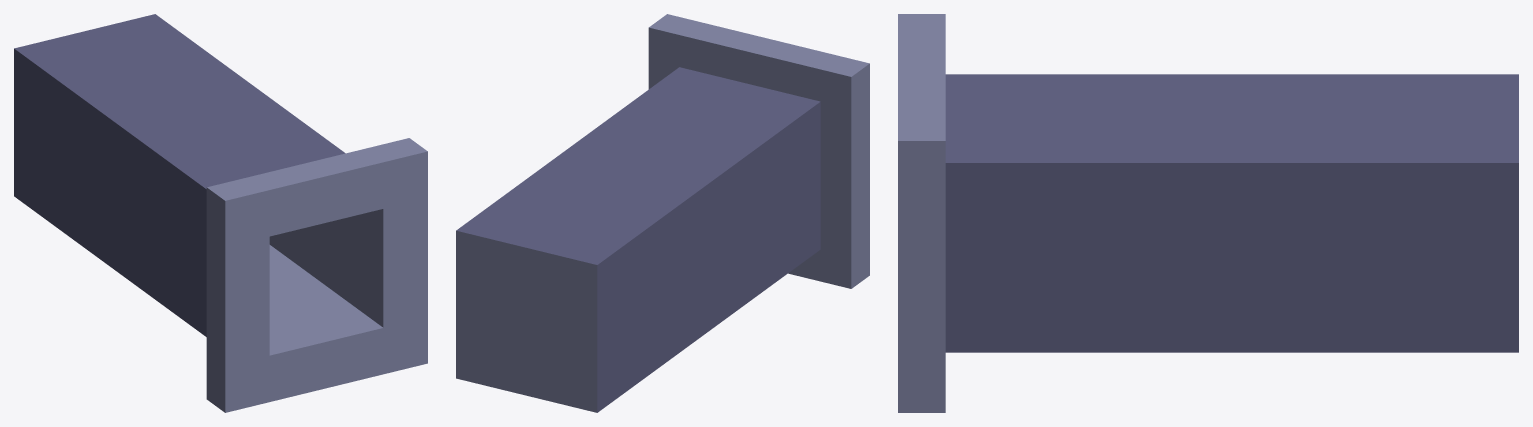
Rendered from golem_canon.fbx.
The picture shows the model from 3 angles, left to right: view 1: azimuth 30°, elevation 25°; view 2: azimuth 150°, elevation 25°; view 3: azimuth 270°, elevation 25°; orthographic projection. The views are drawn at different scales.
Visible parts, largest first — view 1: golem.001; view 2: golem.001; view 3: golem.001.
Boxes of the visible parts, bbox=[...] form: golem.001: bbox=[14, 14, 427, 412]; golem.001: bbox=[456, 14, 869, 412]; golem.001: bbox=[898, 14, 1518, 412].
Bounding box in the file's own units: 20.42 × 20.42 × 42.22.
